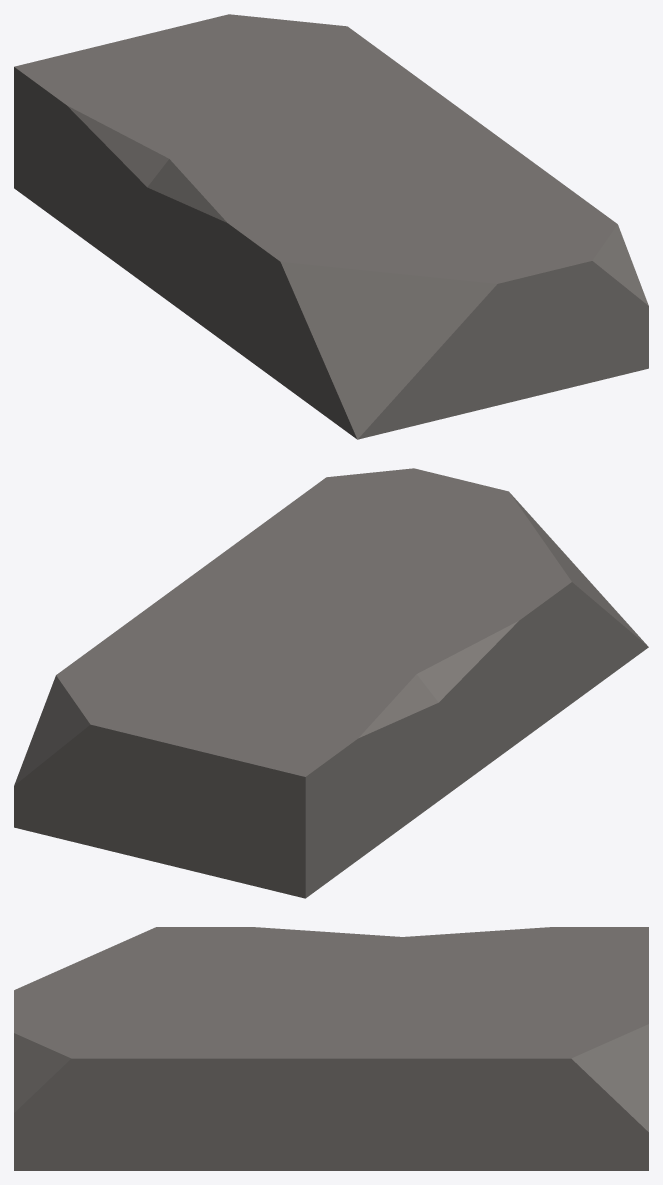
The model's file is SM_Env_Brick_11.fbx.
3 renders of one model, top to bottom at view 1: azimuth 30°, elevation 25°; view 2: azimuth 150°, elevation 25°; view 3: azimuth 270°, elevation 25°, orthographic. The views are drawn at different scales.
Visible parts, largest first — view 1: SM_Env_Brick_11; view 2: SM_Env_Brick_11; view 3: SM_Env_Brick_11.
Boxes of the visible parts, x1,y1,x2,y2 form: SM_Env_Brick_11: (14,14,648,439); SM_Env_Brick_11: (14,468,648,898); SM_Env_Brick_11: (14,927,648,1170).
Size of the model in its own units: 38.94 by 15.53 by 79.48.
Materials: 1 (1 with a texture image).
